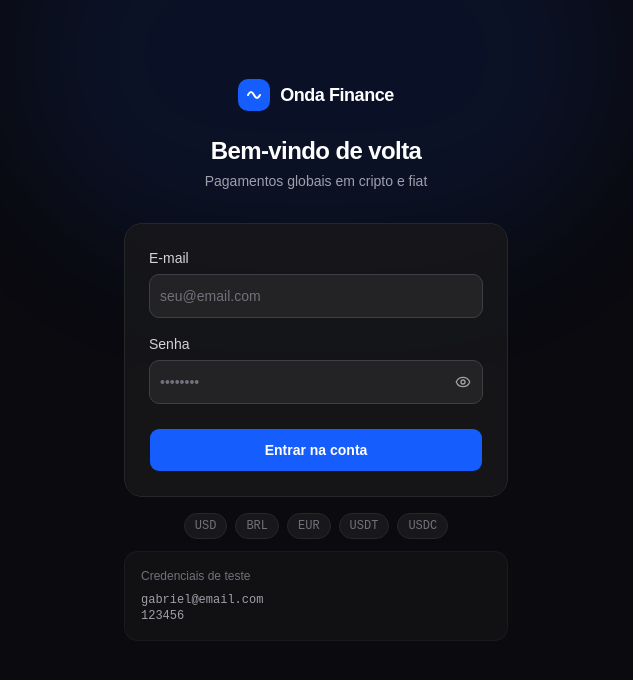
Scenario: Login › exibe erros de validação ao submeter formulário vazio
Click the button "Entrar na conta" at (316, 450), box [149,428,483,472]
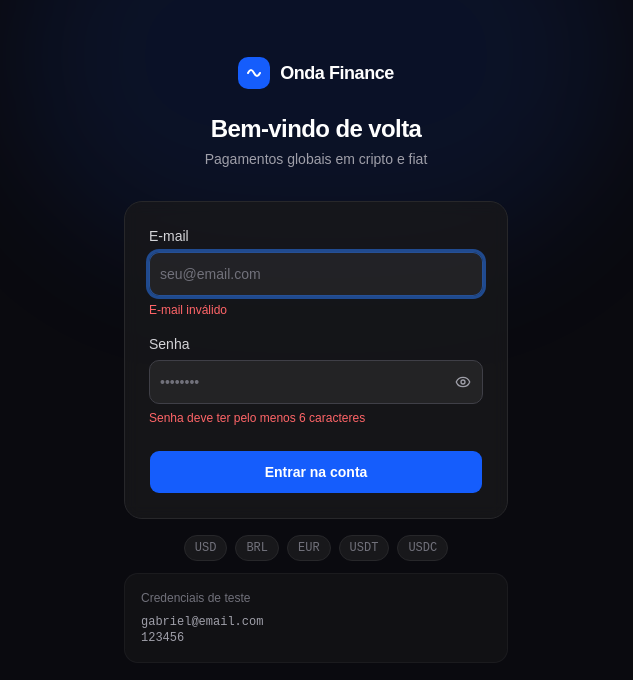
Check: the text "E-mail inválido" is shown, box [149,303,227,317]
Check: the text "Senha deve ter pelo menos 6 caracteres" is shown, box [149,411,365,425]
